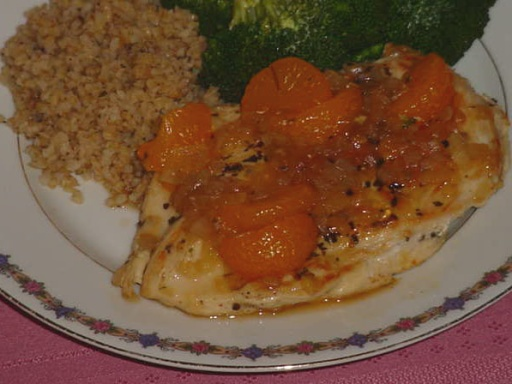background: (0, 0, 410, 190)
